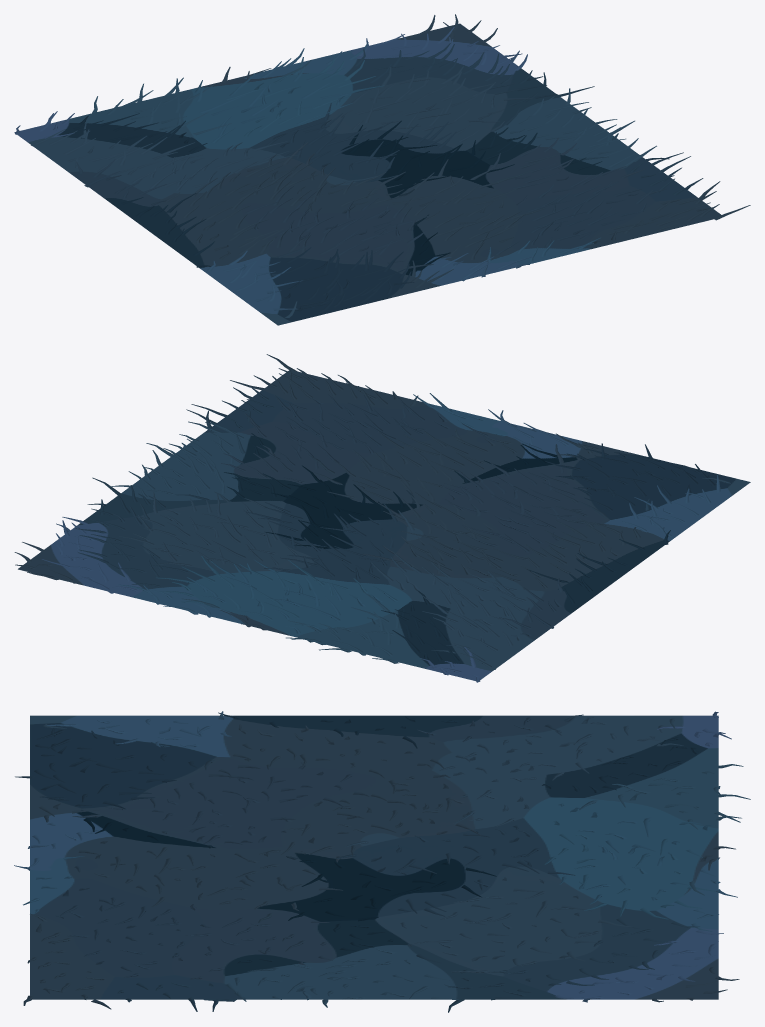
The model's file is Ground-Asset.glb.
3 renders of one model, top to bottom at view 1: azimuth 30°, elevation 25°; view 2: azimuth 150°, elevation 25°; view 3: azimuth 270°, elevation 25°, orthographic. The views are drawn at different scales.
Visible parts, largest first — view 1: Grass/ground; view 2: Grass/ground; view 3: Grass/ground.
Part boxes in pixels (x1=…): Grass/ground: x1=14, y1=14, x2=750, y2=325; Grass/ground: x1=14, y1=354, x2=750, y2=682; Grass/ground: x1=14, y1=711, x2=750, y2=1012.
Bounding box in the file's own units: 551 × 12.16 × 563.
Materials: 1 (1 with a texture image).
